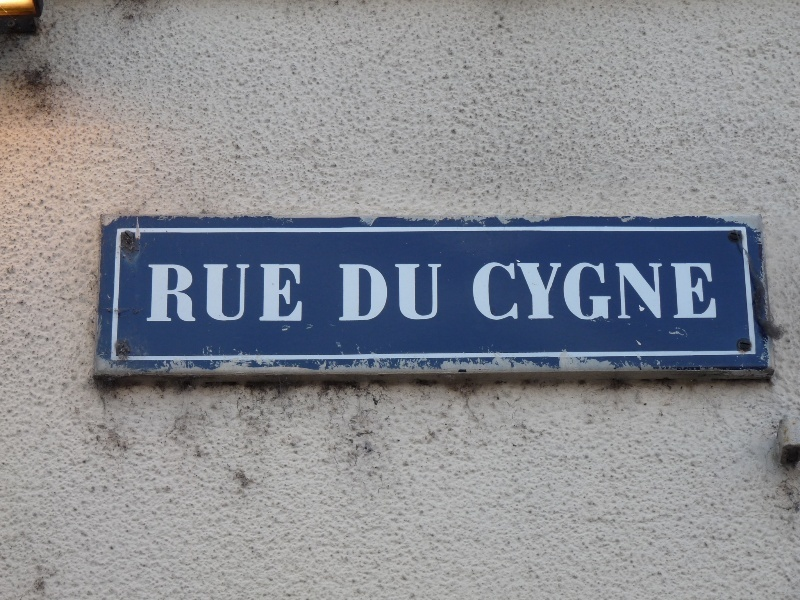text: (481, 261, 496, 321), (497, 261, 512, 321), (513, 261, 528, 321), (529, 261, 544, 321), (545, 261, 560, 321), (561, 261, 576, 321), (577, 261, 592, 321), (593, 261, 608, 321), (609, 261, 624, 321), (625, 261, 640, 321), (641, 261, 656, 321), (657, 261, 672, 321), (673, 261, 688, 321), (689, 261, 704, 321), (161, 264, 176, 322), (177, 264, 192, 322), (193, 264, 208, 322), (209, 264, 224, 322), (225, 264, 240, 322), (241, 264, 256, 322), (257, 264, 272, 322), (273, 264, 288, 322), (353, 264, 368, 322), (369, 264, 384, 322), (385, 264, 400, 322), (401, 264, 416, 322), (417, 264, 432, 322), (289, 264, 302, 322), (339, 264, 352, 322), (705, 261, 717, 321), (148, 264, 160, 322), (433, 264, 442, 322), (473, 261, 480, 321)
